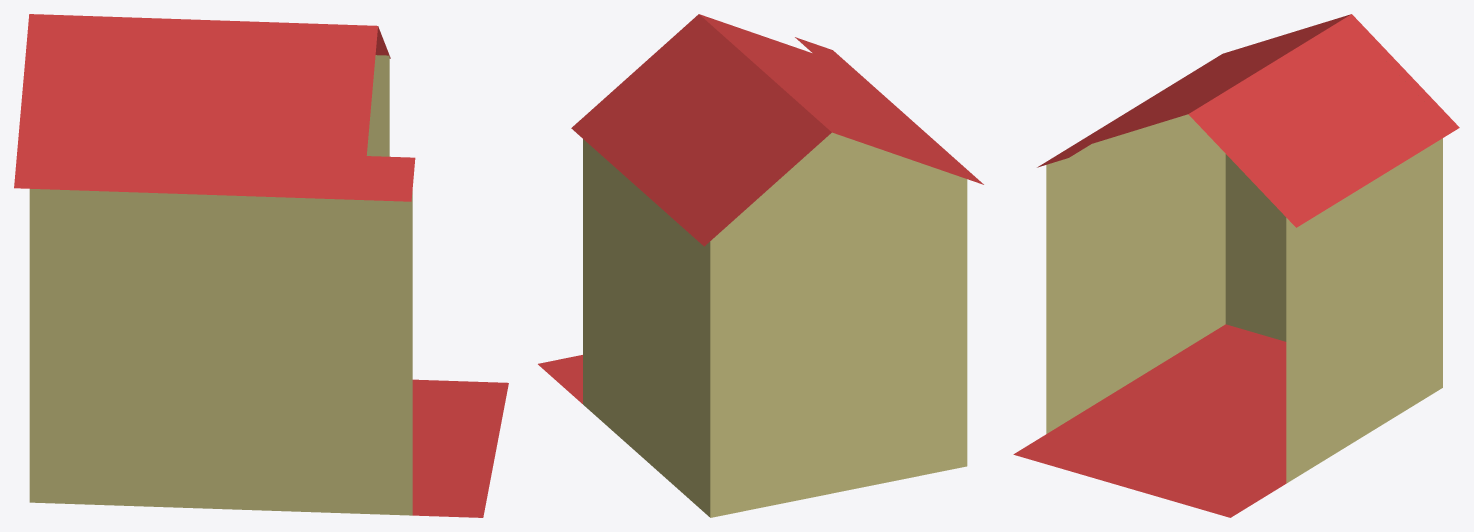
3 views of the same model, side by side, from view 1: azimuth 30°, elevation 25°; view 2: azimuth 150°, elevation 25°; view 3: azimuth 270°, elevation 25° (orthographic). The views are drawn at different scales.
Bounding box in the file's own units: 9.85 × 9.26 × 7.8.
